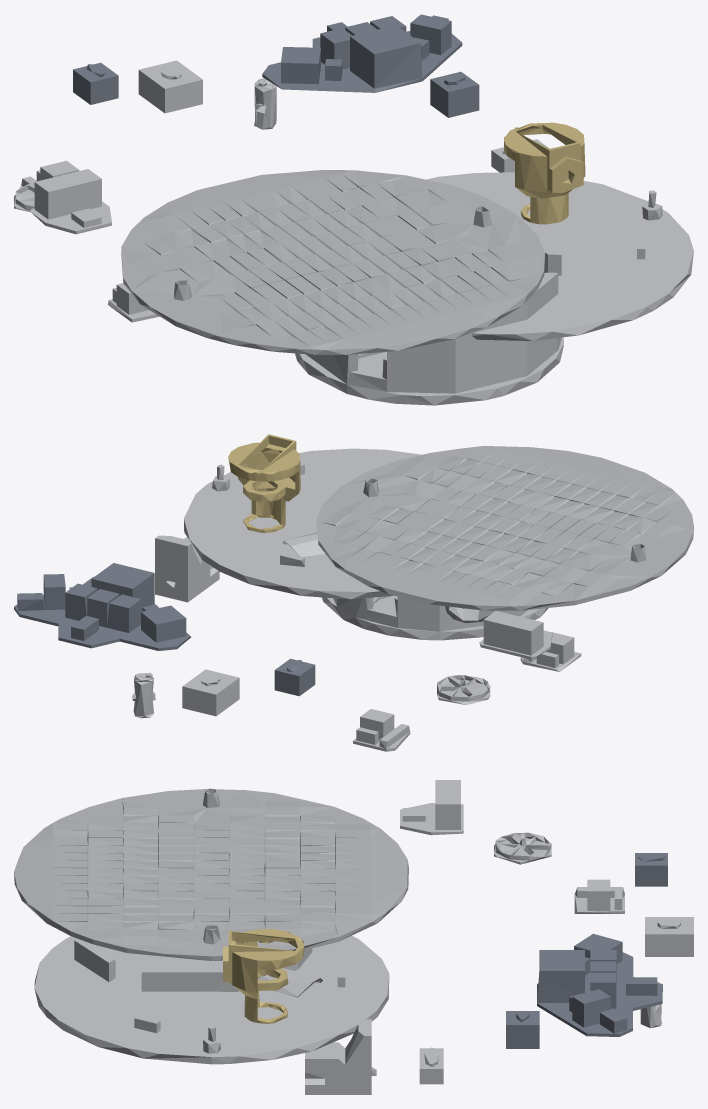
Rendered from lisa-parts.glb.
The picture shows the model from 3 angles, top to bottom: view 1: azimuth 30°, elevation 25°; view 2: azimuth 150°, elevation 25°; view 3: azimuth 270°, elevation 25°; orthographic projection. The views are drawn at different scales.
Parts seen in each view (by area): view 1: Thruster.stl; view 2: Thruster.stl; view 3: Thruster.stl.
Boxes of the visible parts, x1,y1,x2,y2 form: Thruster.stl: (14,14,693,405); Thruster.stl: (14,434,693,751); Thruster.stl: (14,780,693,1094).
Bounding box in the file's own units: 0.8212 × 0.2235 × 1.
